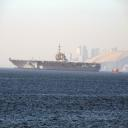Portanaves: (9, 44, 103, 74)
